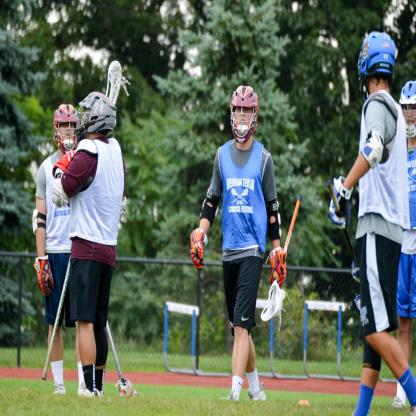Helmet: (356, 31, 396, 98), (74, 89, 118, 143), (228, 86, 260, 145), (52, 103, 77, 153), (400, 78, 416, 140)
